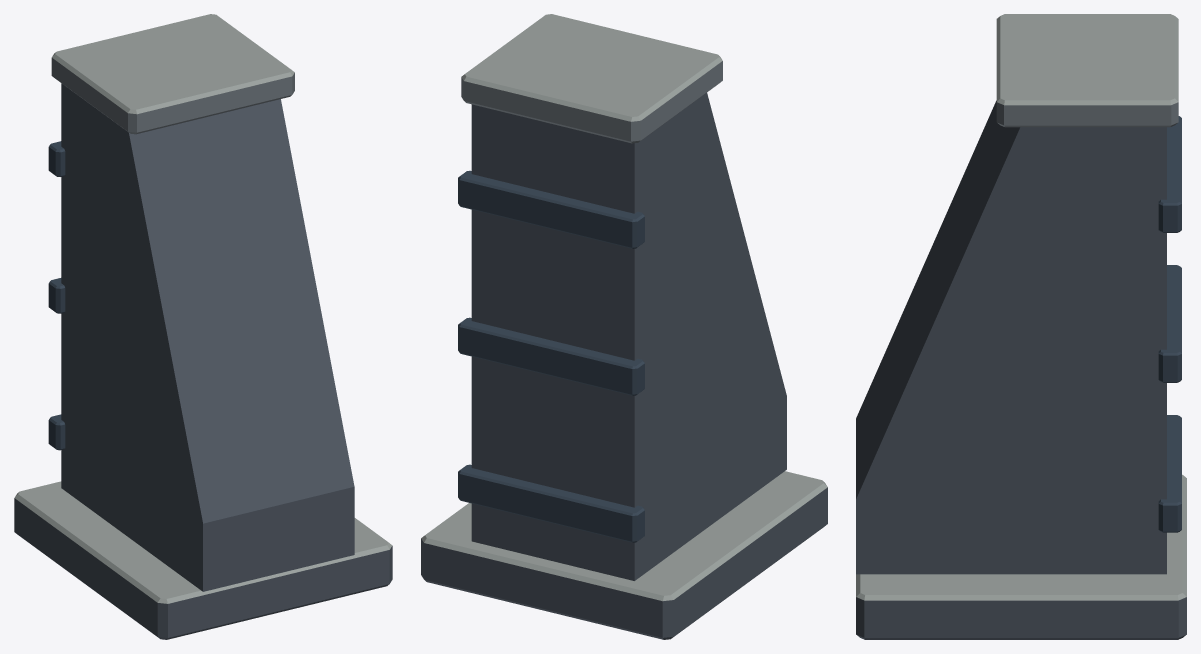
Rendered from buttress-heavy.glb.
The picture shows the model from 3 angles, left to right: view 1: azimuth 30°, elevation 25°; view 2: azimuth 150°, elevation 25°; view 3: azimuth 270°, elevation 25°; orthographic projection. The views are drawn at different scales.
Parts seen in each view (by area): view 1: buttress-heavy__body; view 2: buttress-heavy__body; view 3: buttress-heavy__body.
Boxes of the visible parts, x1,y1,x2,y2 form: buttress-heavy__body: (14,14,392,639); buttress-heavy__body: (421,14,827,639); buttress-heavy__body: (856,14,1186,639).
Size of the model in its own units: 0.9 by 1.74 by 1.
